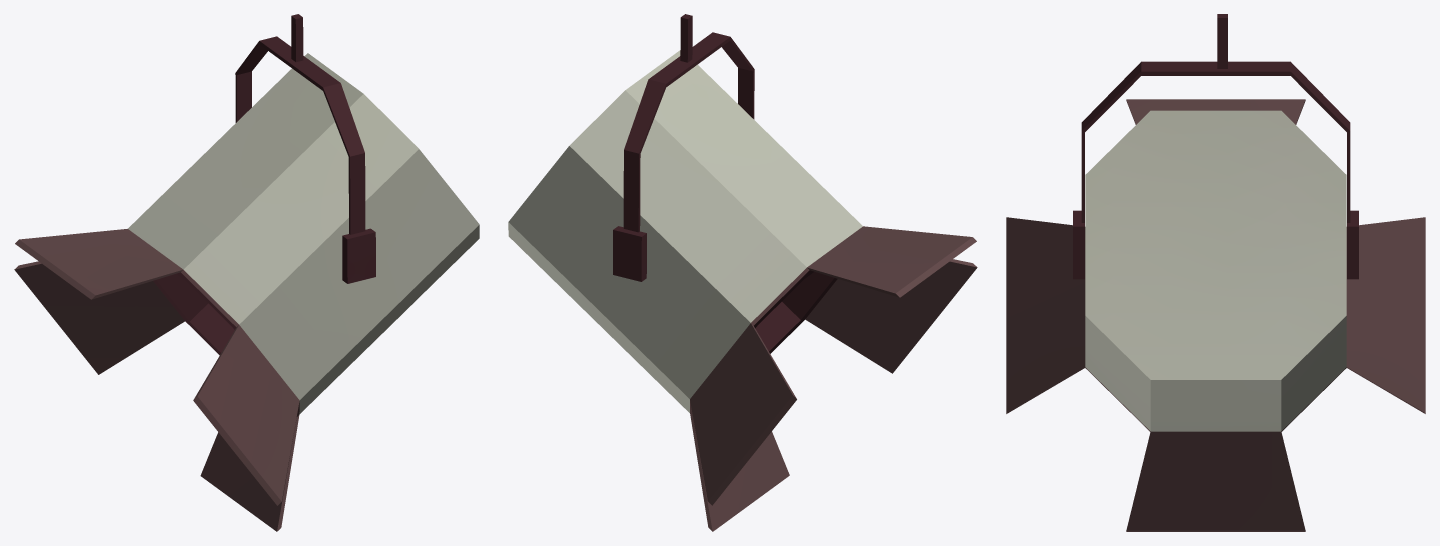
File: spotlight.fbx
3 renders of one model, left to right at view 1: azimuth 30°, elevation 25°; view 2: azimuth 150°, elevation 25°; view 3: azimuth 270°, elevation 25°, orthographic. The views are drawn at different scales.
Visible parts, largest first — view 1: polySurface1067; view 2: polySurface1067; view 3: polySurface1067.
Part boxes in pixels (x1,y1,x2,y2): polySurface1067: (14, 14, 479, 531); polySurface1067: (508, 14, 977, 531); polySurface1067: (1006, 14, 1425, 531).
Size of the model in its own units: 6.64 by 7.49 by 5.16.
Materials: 1 (1 with a texture image).
